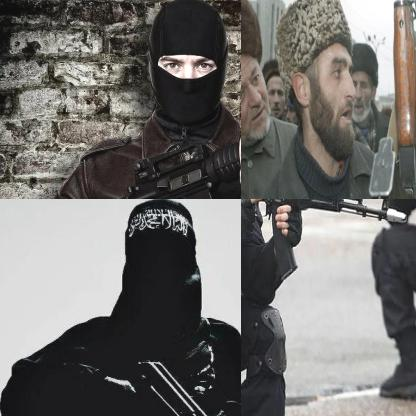rifle: (69, 83, 240, 198), (241, 199, 412, 280), (365, 0, 415, 198)
